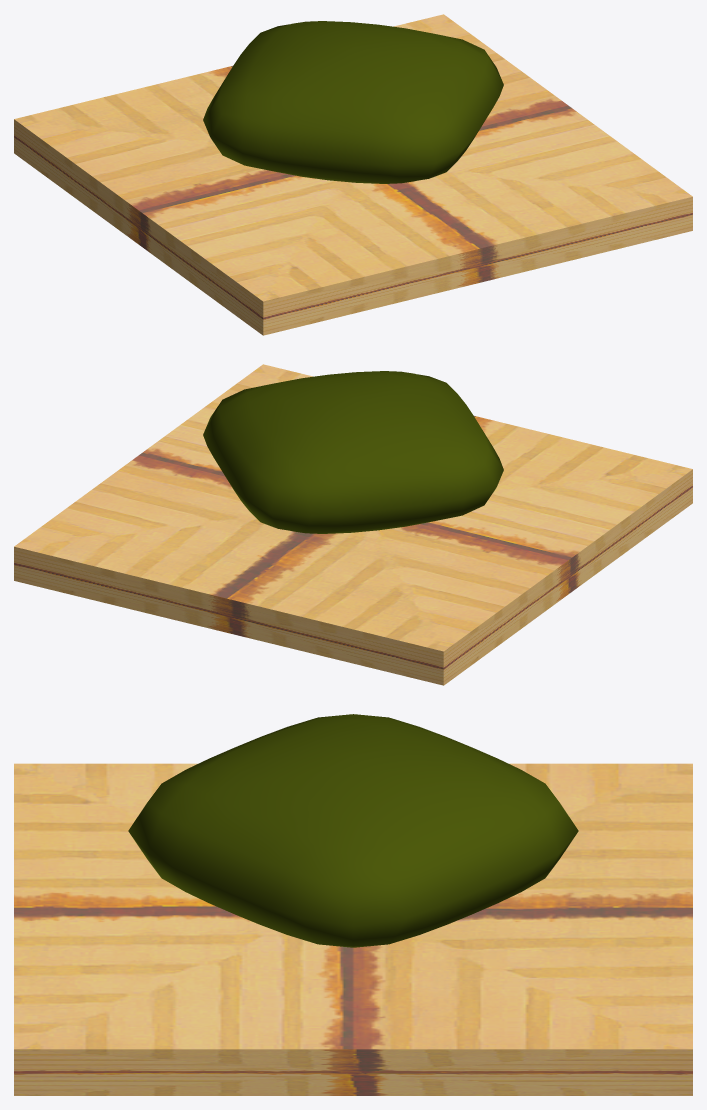
The model's file is p1_piece_tile.fbx.
3 renders of one model, top to bottom at view 1: azimuth 30°, elevation 25°; view 2: azimuth 150°, elevation 25°; view 3: azimuth 270°, elevation 25°, orthographic. The views are drawn at different scales.
Parts seen in each view (by area): view 1: p1_pieces_tile_geo; view 2: p1_pieces_tile_geo; view 3: p1_pieces_tile_geo.
Part boxes in pixels (x1,y1,x2,y2): p1_pieces_tile_geo: (14, 14, 692, 335); p1_pieces_tile_geo: (14, 364, 692, 685); p1_pieces_tile_geo: (14, 714, 692, 1095).
Size of the model in its own units: 40.59 by 13.08 by 40.76.
Materials: 2 (1 with a texture image).
